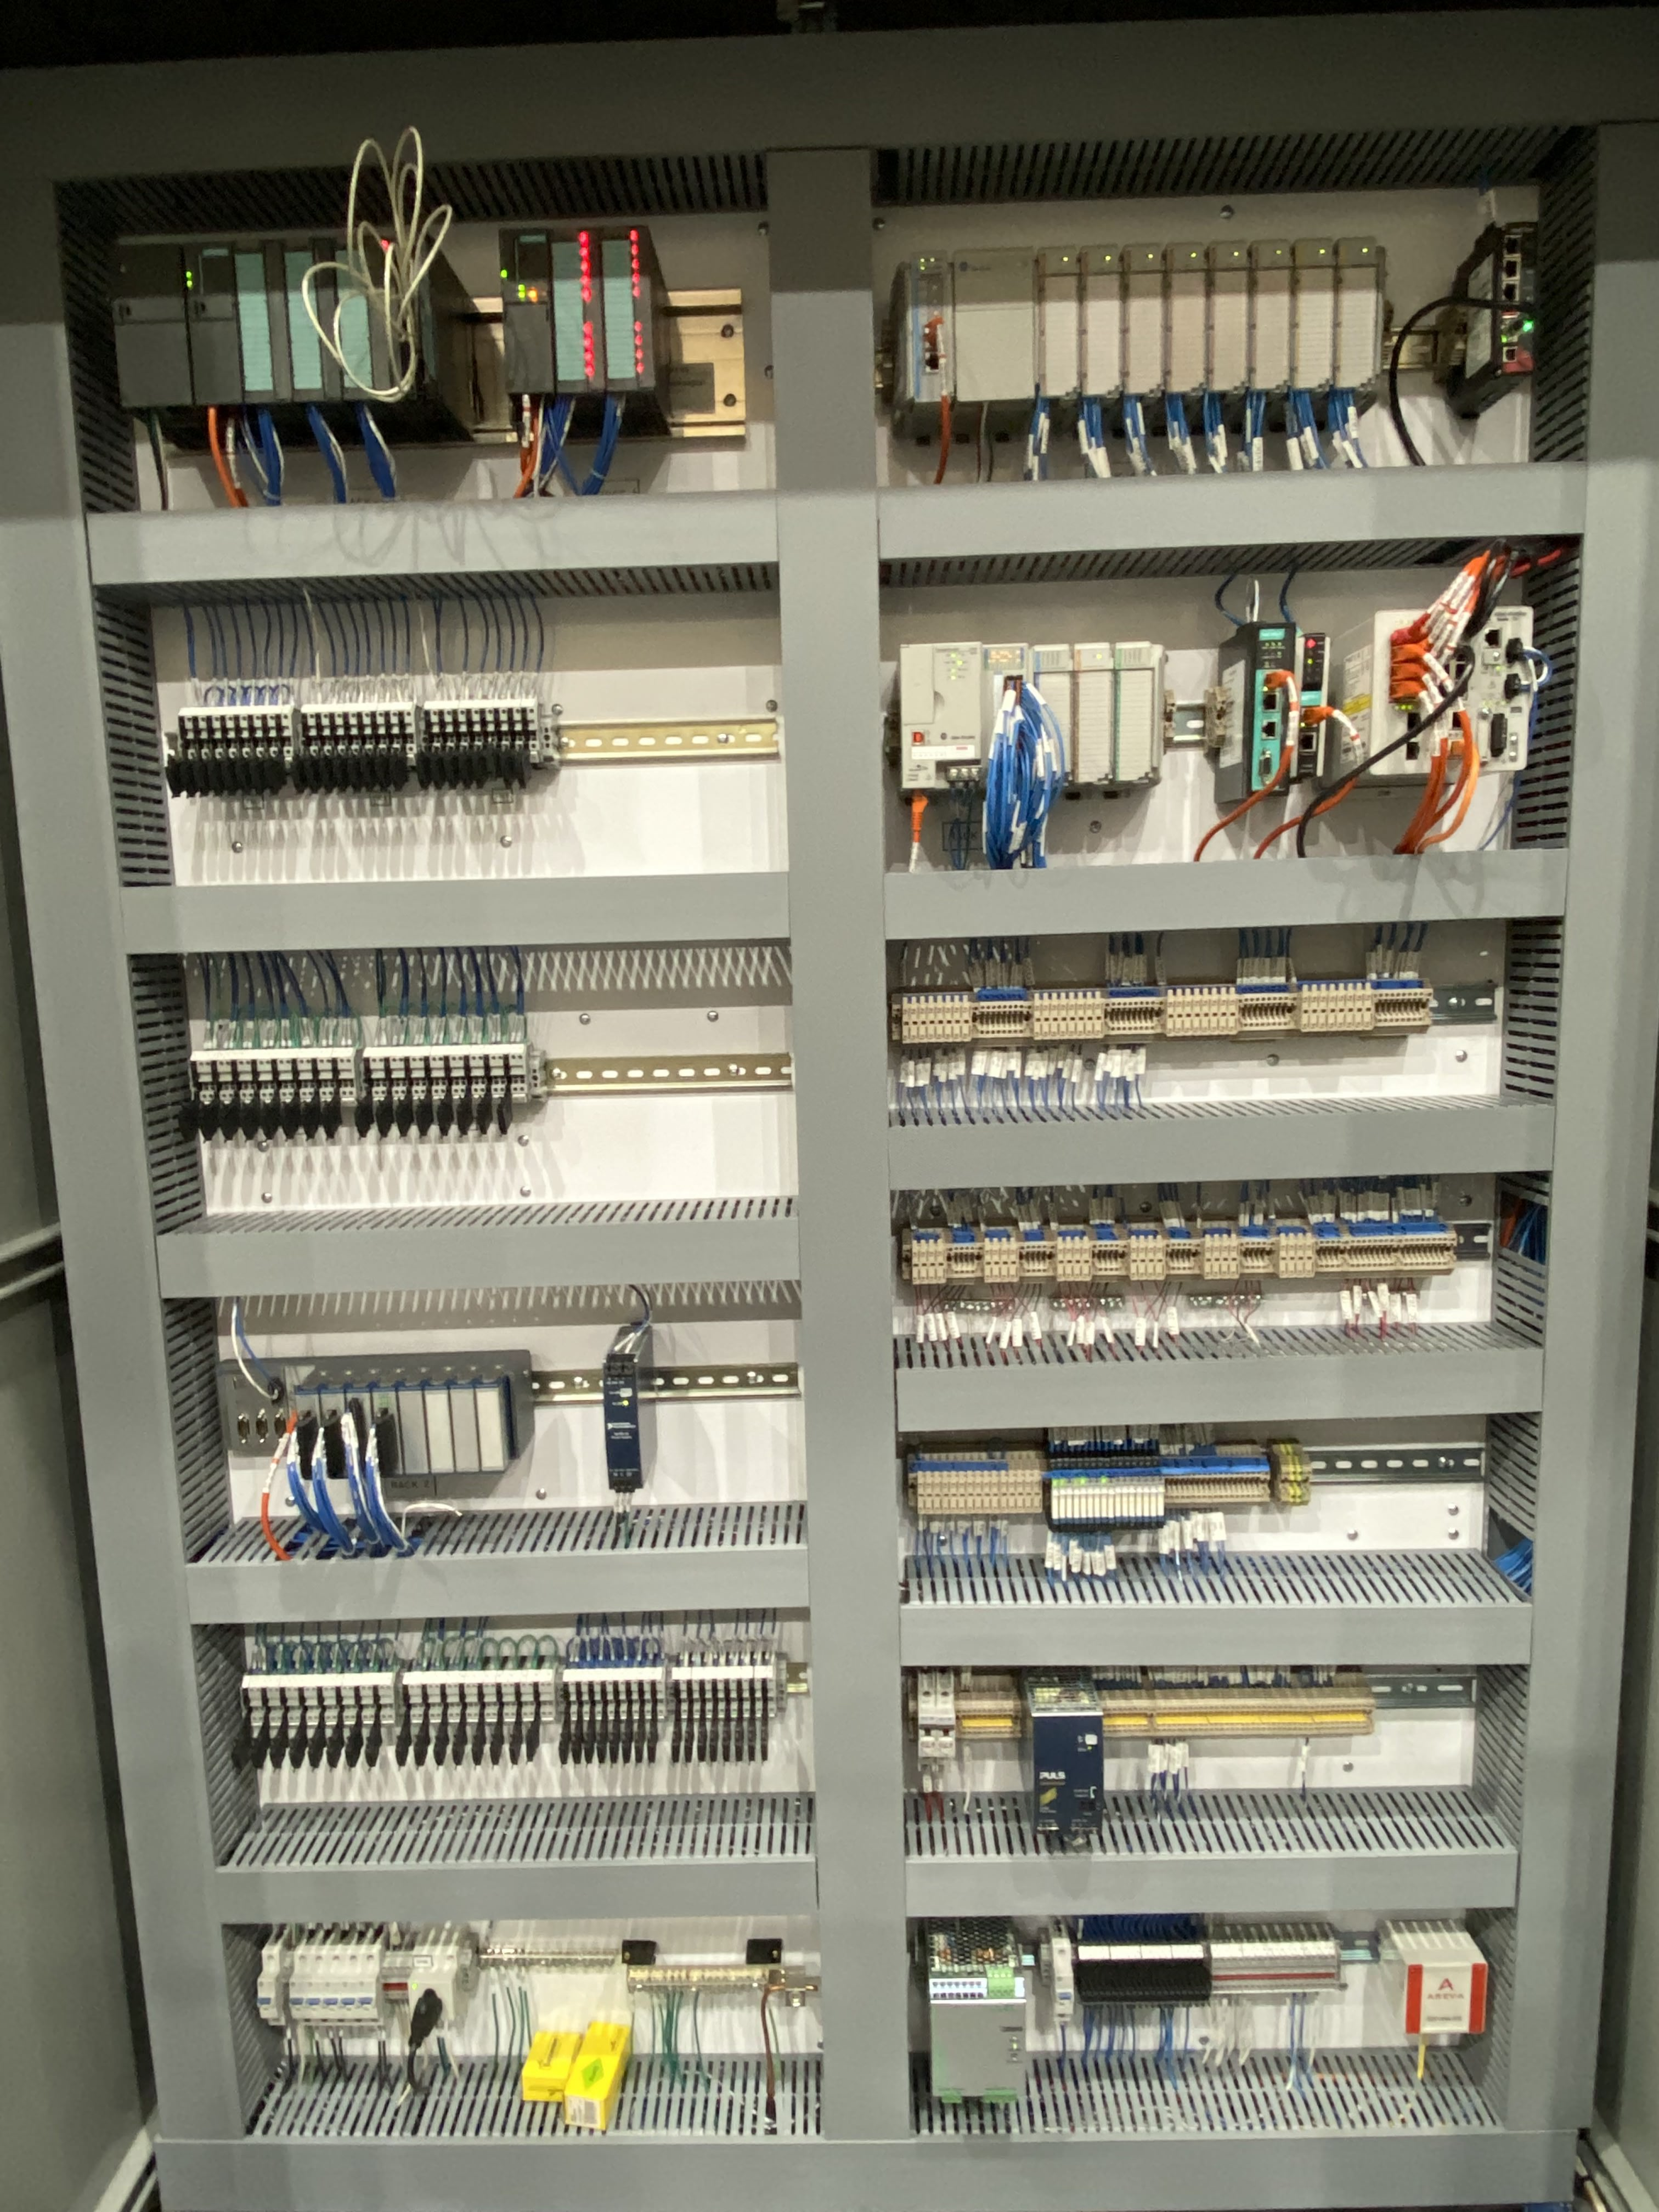AllenBradley: (894, 637, 986, 794)
Siemens: (179, 237, 251, 413)
